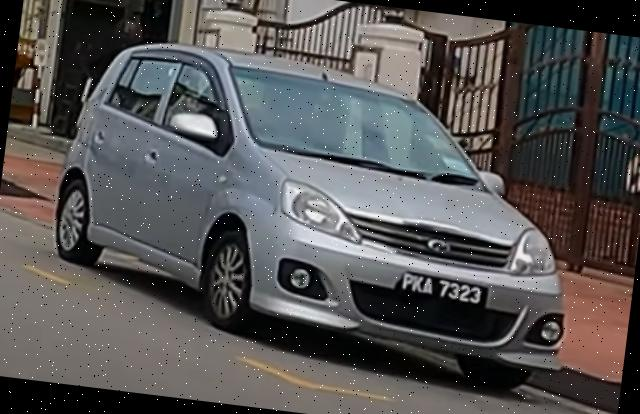License_Plate: (395, 269, 489, 311)
car: (39, 29, 598, 398)
